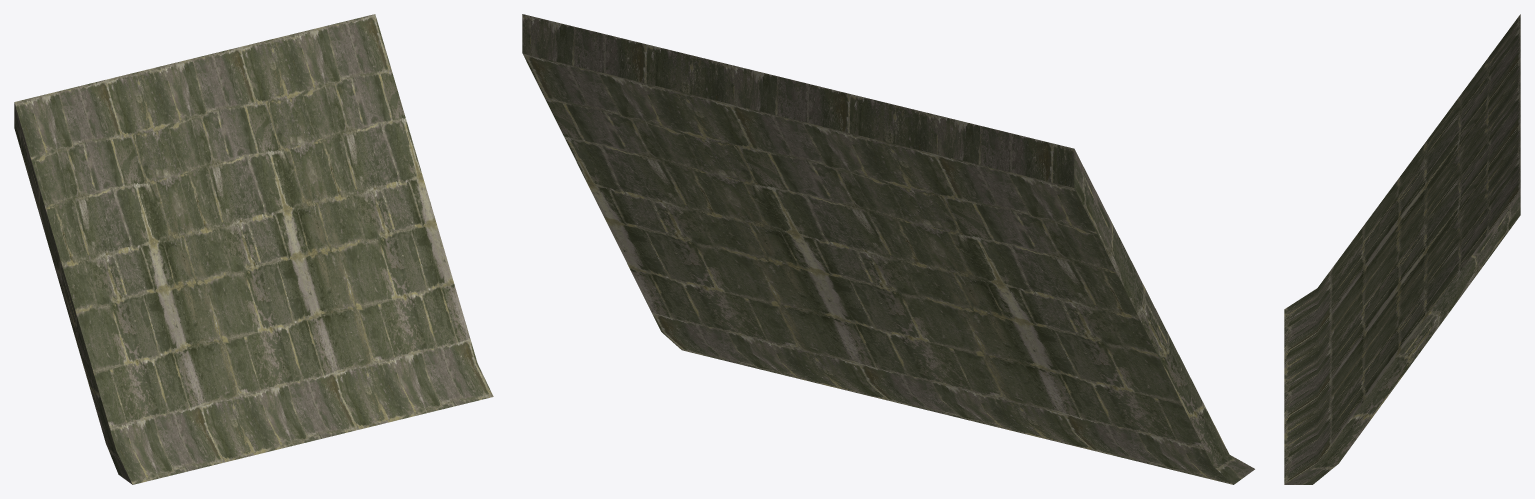
The model's file is Roof_Single_LHalf.fbx.
3 renders of one model, left to right at view 1: azimuth 30°, elevation 25°; view 2: azimuth 150°, elevation 25°; view 3: azimuth 270°, elevation 25°, orthographic. The views are drawn at different scales.
Parts seen in each view (by area): view 1: Roof_Single_LHalf; view 2: Roof_Single_LHalf; view 3: Roof_Single_LHalf.
Part boxes in pixels (x1,y1,x2,y2): Roof_Single_LHalf: [14, 14, 493, 484]; Roof_Single_LHalf: [522, 14, 1254, 484]; Roof_Single_LHalf: [1284, 14, 1520, 484].
Size of the model in its own units: 749 by 587 by 425.
